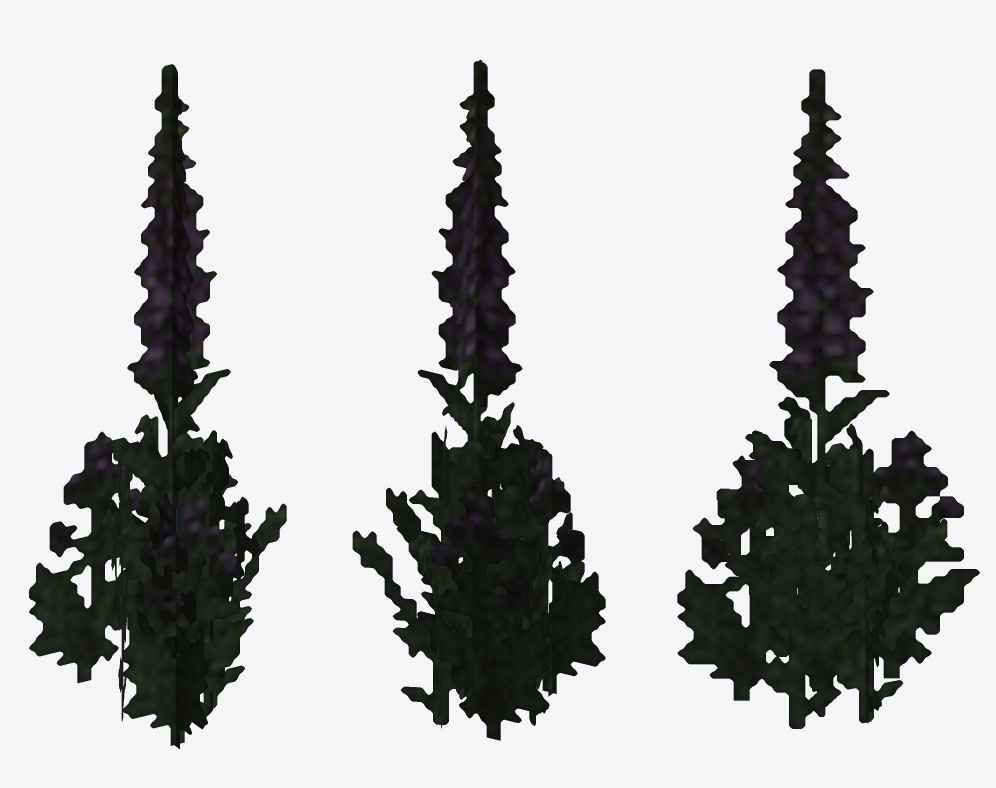
File: SM_EC_Plant_Bush_02.fbx
The picture shows the model from 3 angles, left to right: view 1: azimuth 30°, elevation 25°; view 2: azimuth 150°, elevation 25°; view 3: azimuth 270°, elevation 25°; orthographic projection.
Parts seen in each view (by area): view 1: SM_EC_Plant_Bush_02; view 2: SM_EC_Plant_Bush_02; view 3: SM_EC_Plant_Bush_02.
Part boxes in pixels (box(x1,y1,x2,y2)): SM_EC_Plant_Bush_02: box(29, 64, 286, 748); SM_EC_Plant_Bush_02: box(352, 59, 605, 740); SM_EC_Plant_Bush_02: box(677, 69, 979, 728).
Bounding box in the file's own units: 0.5597 × 0.613 × 1.42.
